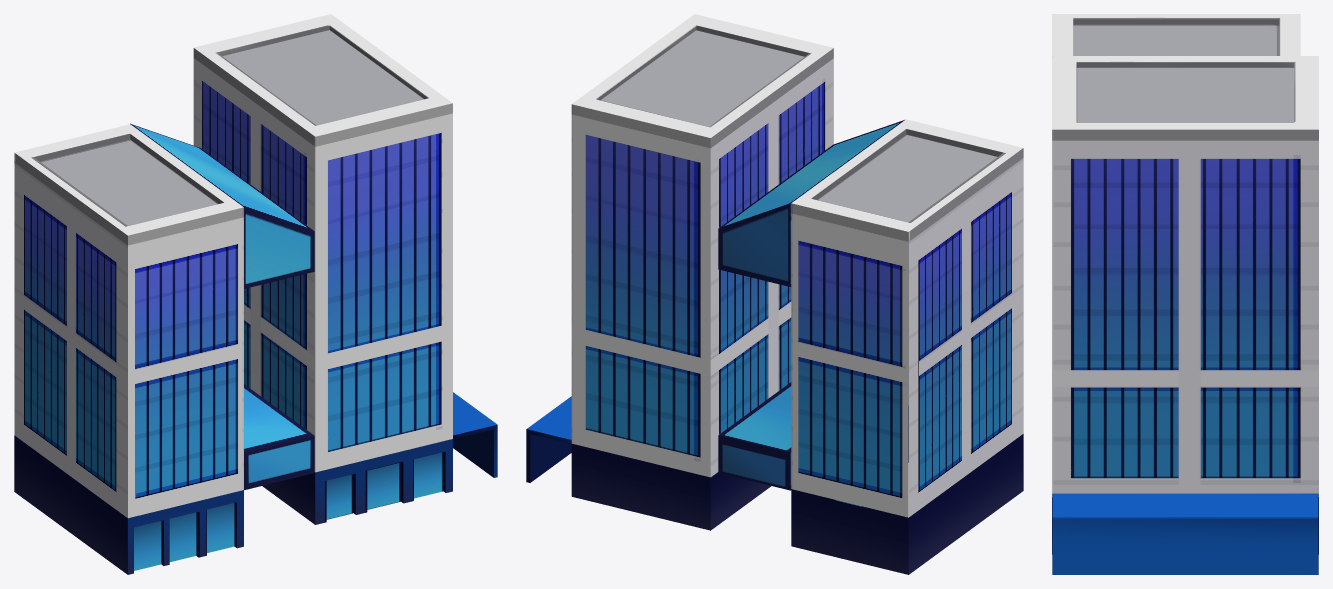
File: Tx_Exterior_Business_Office2.fbx
3 views of the same model, side by side, from view 1: azimuth 30°, elevation 25°; view 2: azimuth 150°, elevation 25°; view 3: azimuth 270°, elevation 25° (orthographic). The views are drawn at different scales.
Parts seen in each view (by area): view 1: Building, Building1, window; view 2: Building, Building1, window; view 3: Building, Building1.
Boxes of the visible parts, x1,y1,x2,y2 form: Building: (193,14,497,524); Building1: (14,124,243,574); window: (130,123,314,490); Building: (526,14,833,530); Building1: (791,119,1023,574); window: (718,120,904,490); Building: (1052,56,1318,574); Building1: (1052,14,1300,55).
Bounding box in the file's own units: 31.16 × 31.58 × 17.78.
1 material, 1 textured.
